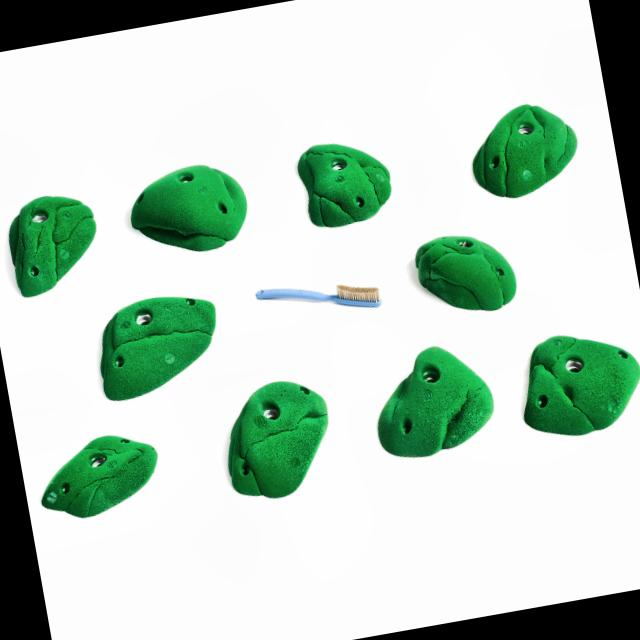Hold: (212, 373, 344, 501), (94, 282, 230, 403), (372, 336, 501, 461), (512, 320, 640, 445), (127, 154, 253, 262), (460, 94, 584, 202), (31, 426, 166, 524), (1, 190, 109, 307), (400, 220, 518, 322), (291, 132, 402, 232)
